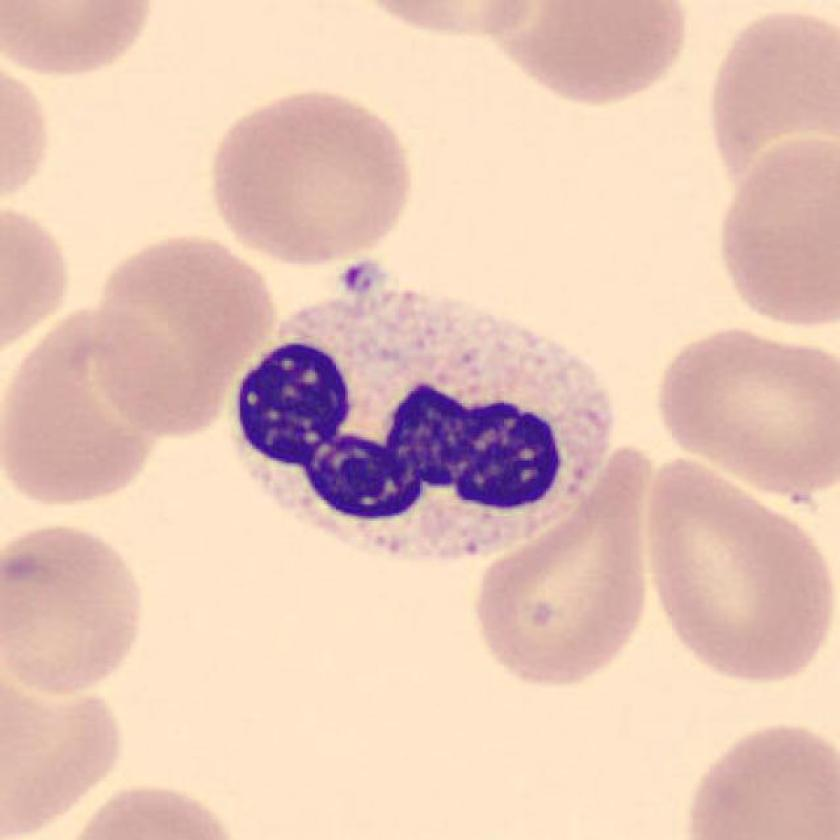neutrophil: (231, 291, 614, 558)
